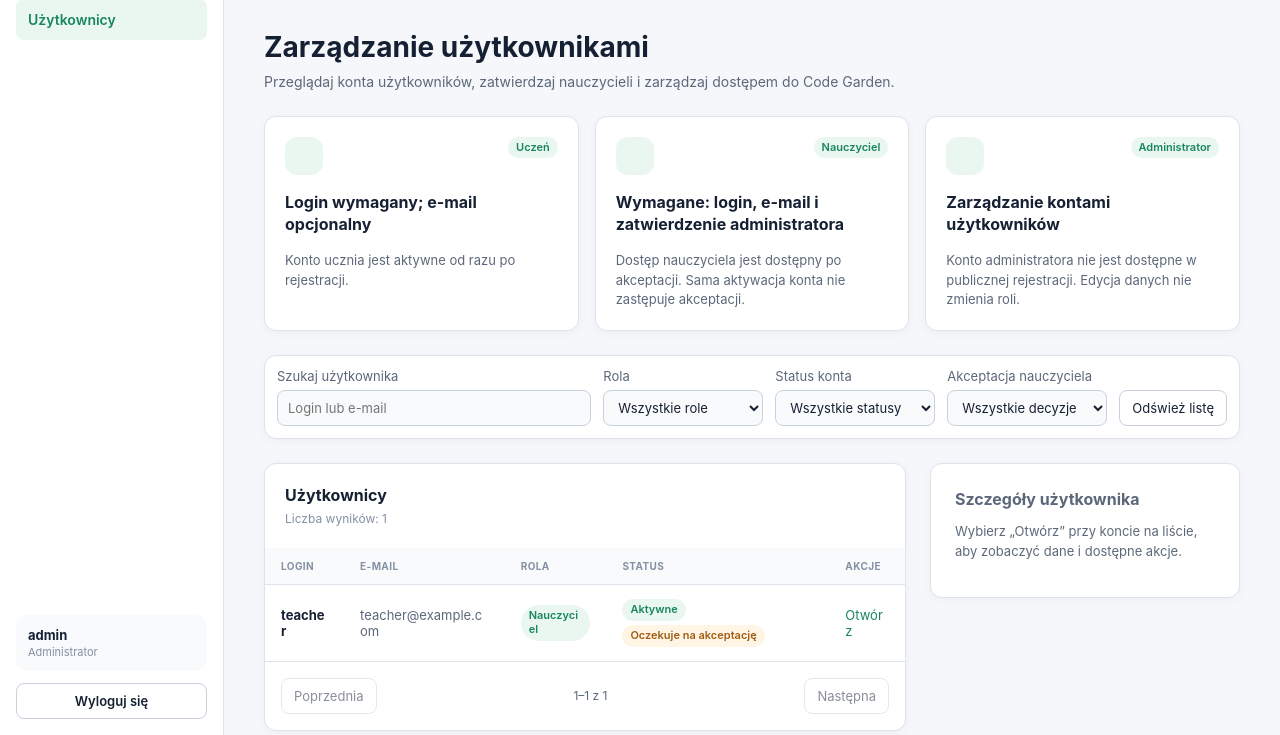
Test: loads details, approves teacher and refreshes list with feedback
Click the button with aria-label "Otwórz użytkownika teacher" at (867, 623), box [845, 601, 889, 645]
(page scrolled)
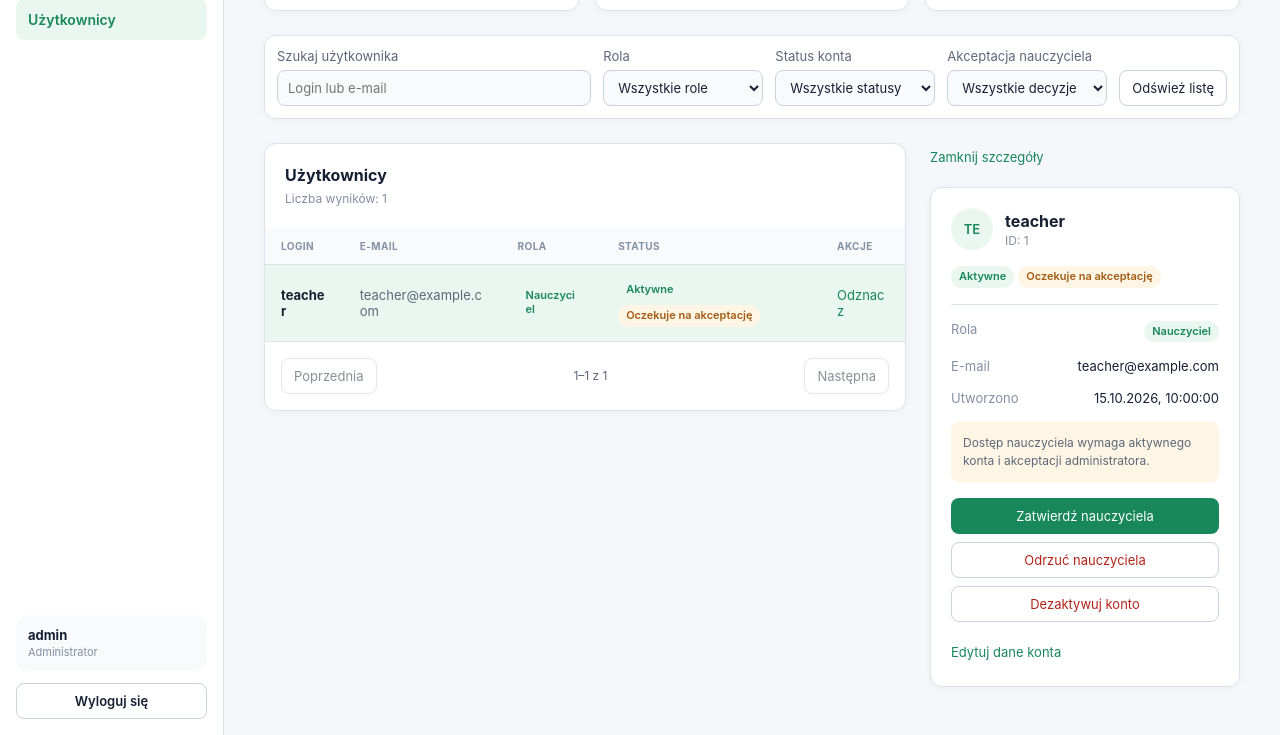
Click the button "Zatwierdź nauczyciela" at (1085, 516), box [951, 498, 1219, 534]
(page scrolled)
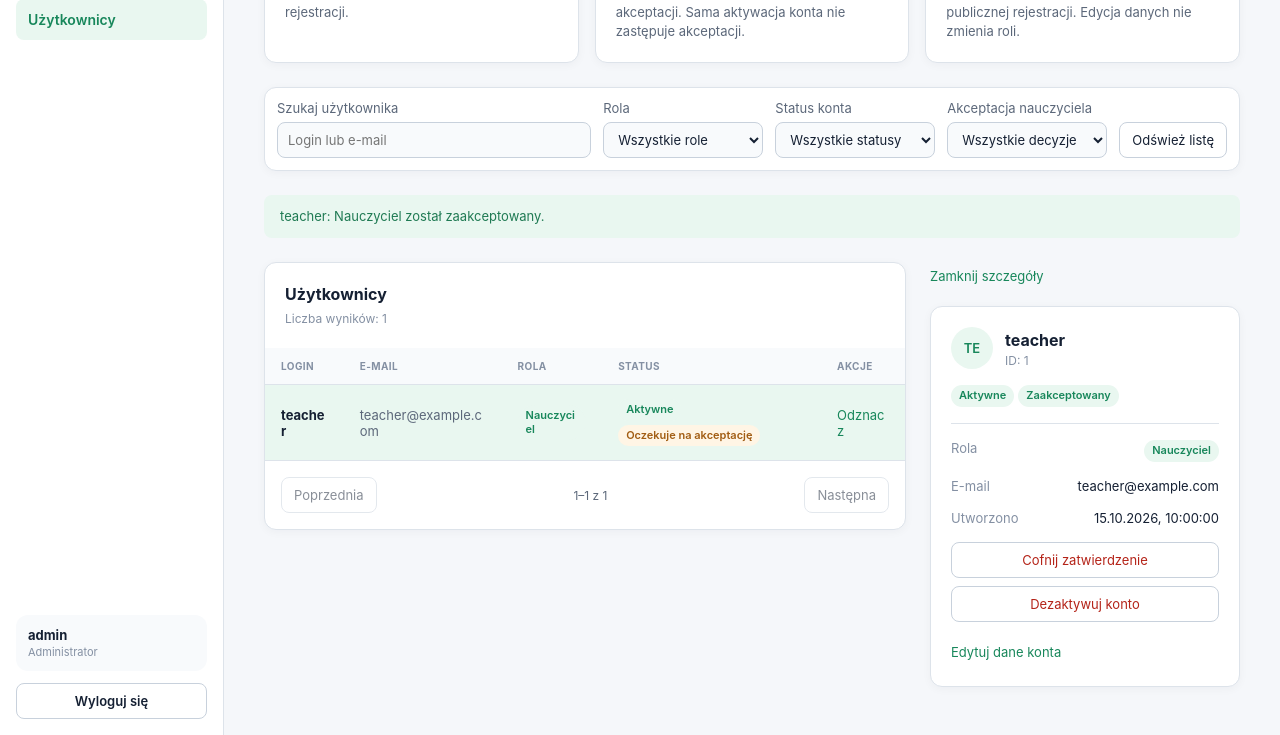
Expected: the text "teacher: Nauczyciel został zaakceptowany." is shown, [264, 195, 1240, 238]
Expected: the button "Zatwierdź nauczyciela" is gone
Expected: the button "Odrzuć nauczyciela" is gone
